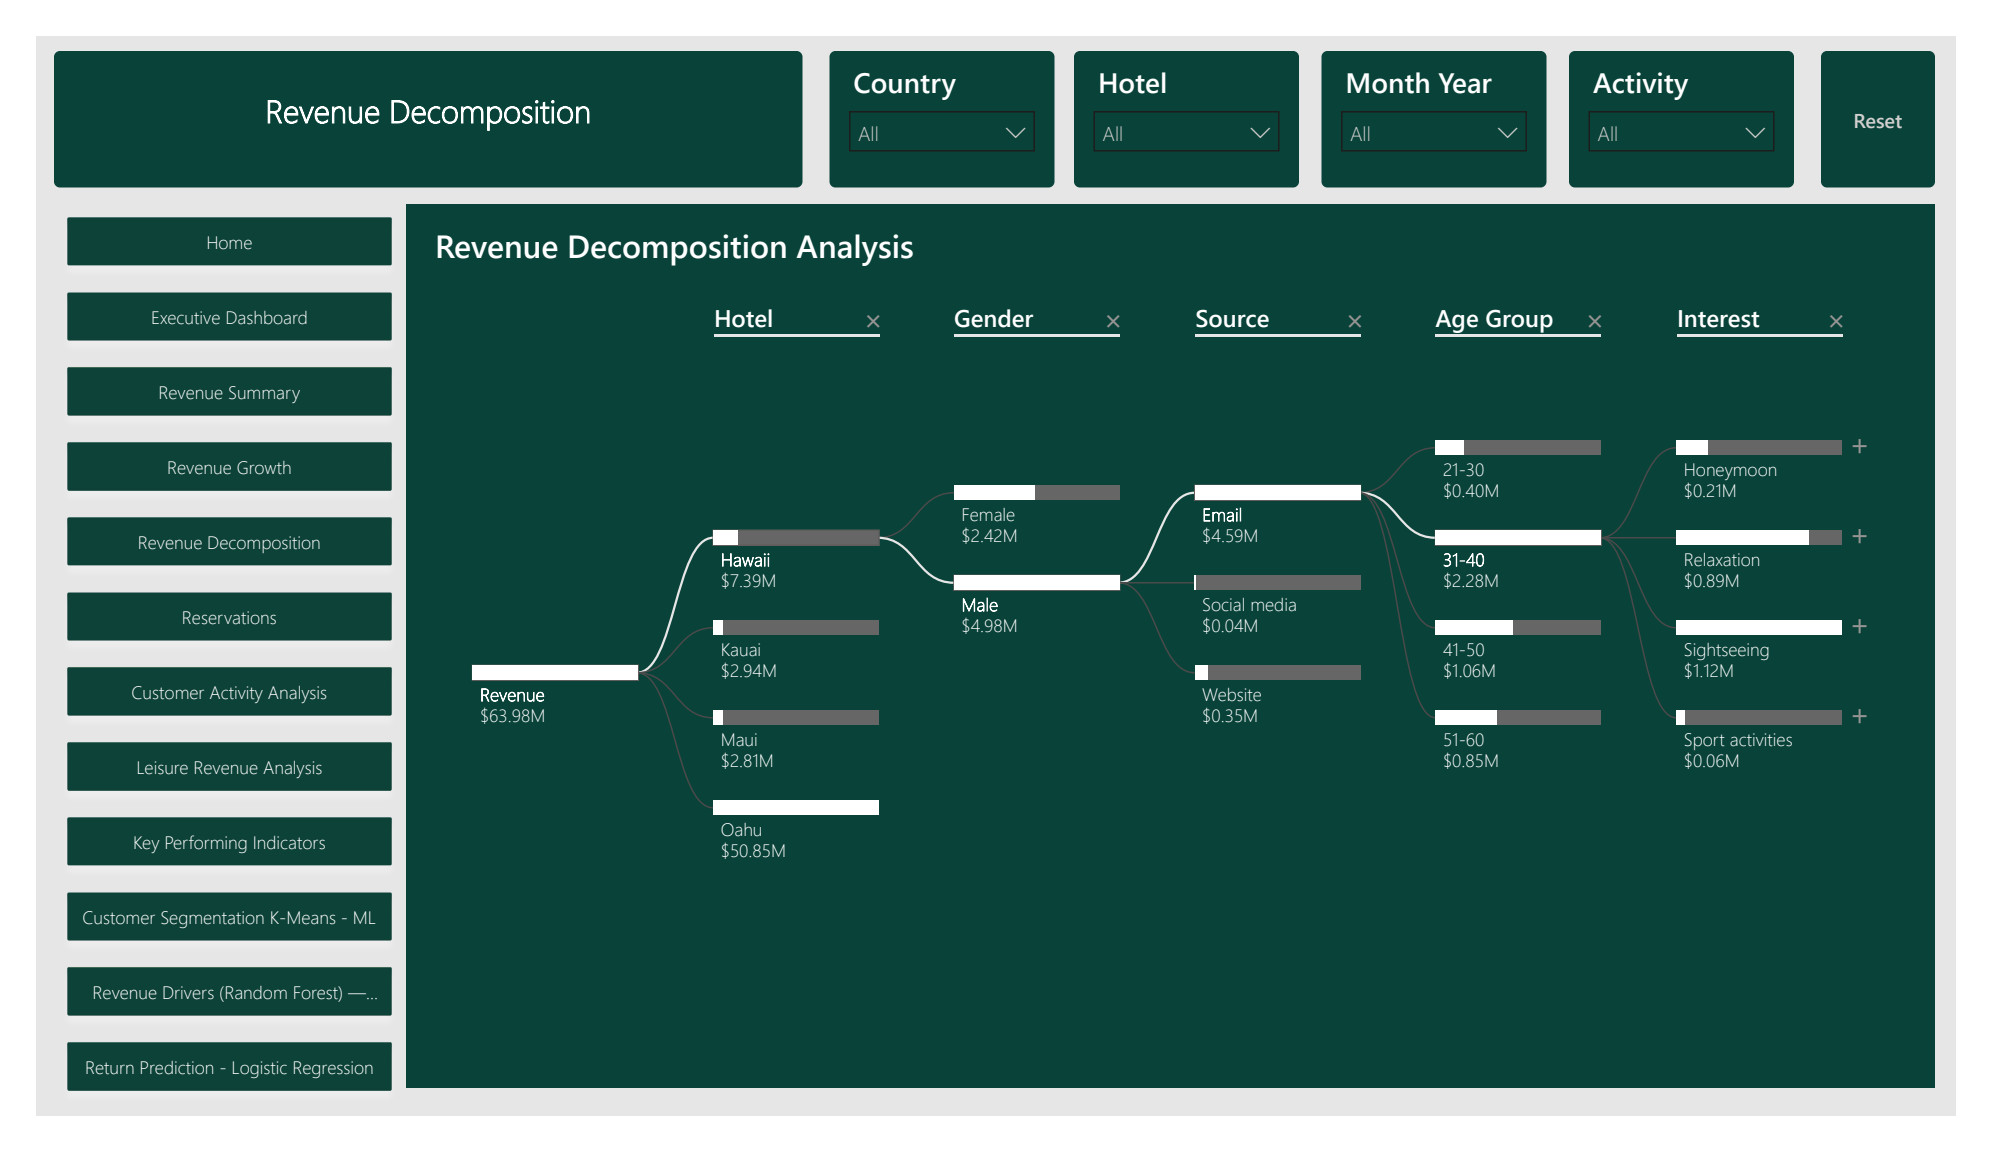

The page's visual inventory and layout, read from the dashboard file:
{"tool":"powerbi","page":{"name":"Revenue Decomposition","canvas":[1280,720],"ordinal":4},"visuals":[{"type":"shape","box":[246.9,112.2,1019,588.9],"z":0},{"type":"textbox","box":[11.7,9.9,499.2,90.7],"z":1000},{"type":"slicer","fields":{"Values":["Country.Country"]},"box":[528.8,9.9,150,90.7],"z":2000},{"type":"pageNavigator","box":[11.7,112.2,234.3,607.8],"z":3000},{"type":"slicer","fields":{"Values":["Hotel Visited.Hotel"]},"box":[692.2,9.9,150,90.7],"z":4000},{"type":"slicer","fields":{"Values":["Calender.MonthYear"]},"box":[857.4,9.9,150,90.7],"z":5000},{"type":"slicer","fields":{"Values":["Primary interest.Primary Interest"]},"box":[1021.6,9.9,150,90.7],"z":6000},{"type":"actionButton","box":[1189.5,9.9,76.3,90.7],"z":7000},{"type":"decompositionTreeVisual","title":"Revenue Decomposition Analysis","fields":{"Analyze":["Sum(Data.Revenue)"],"ExplainBy":["Hotel Visited.Hotel","Gender.Gender","Source.Source","Age.Age Group","Primary interest.Primary Interest","Calender.Month Full"]},"box":[261.2,124.8,983.9,554.8],"z":8000}]}

Visuals, with their boxes in screenshot pixels (x1, y1, x2, y2), scaled from the page's 1280x720 canvas onto the 1992x1152 screenshot:
shape: 384, 180, 1970, 1122
textbox: 18, 16, 795, 161
slicer - Country.Country: 823, 16, 1056, 161
pageNavigator: 18, 180, 383, 1151
slicer - Hotel Visited.Hotel: 1077, 16, 1311, 161
slicer - Calender.MonthYear: 1334, 16, 1568, 161
slicer - Primary interest.Primary Interest: 1590, 16, 1823, 161
actionButton: 1851, 16, 1970, 161
"Revenue Decomposition Analysis" decompositionTreeVisual: 406, 200, 1938, 1087
